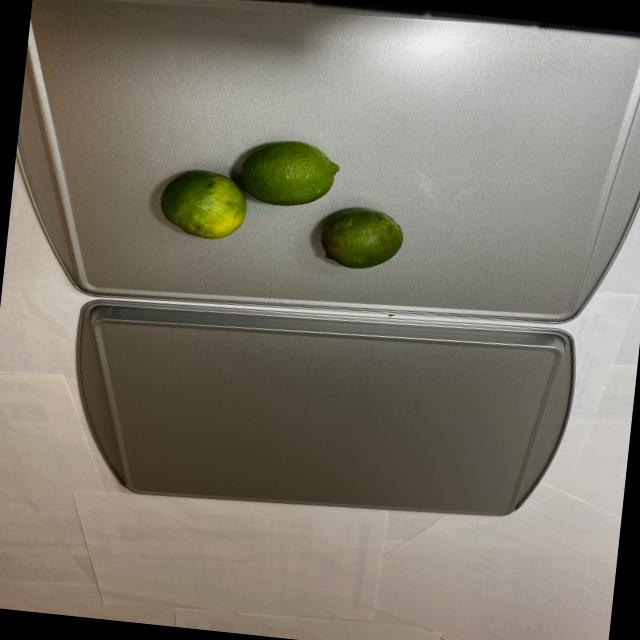lemon: (148, 128, 414, 276)
